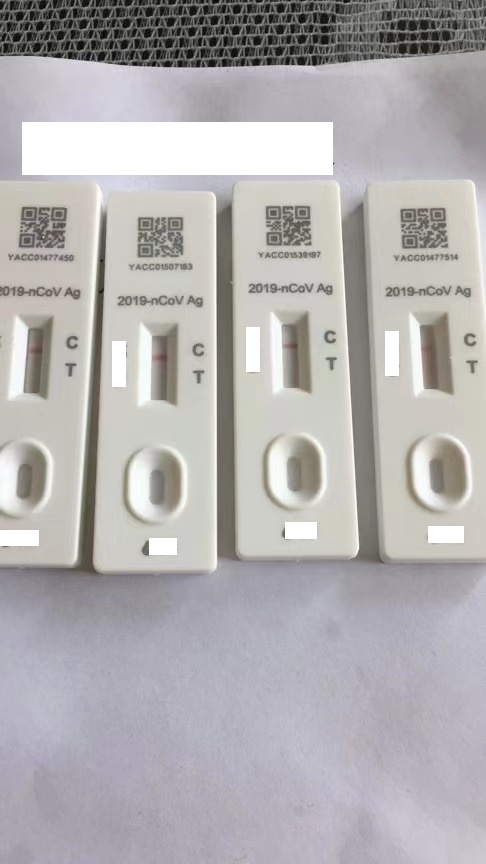negative: (272, 309, 312, 397), (412, 311, 451, 400), (16, 315, 52, 403), (142, 321, 177, 410)
